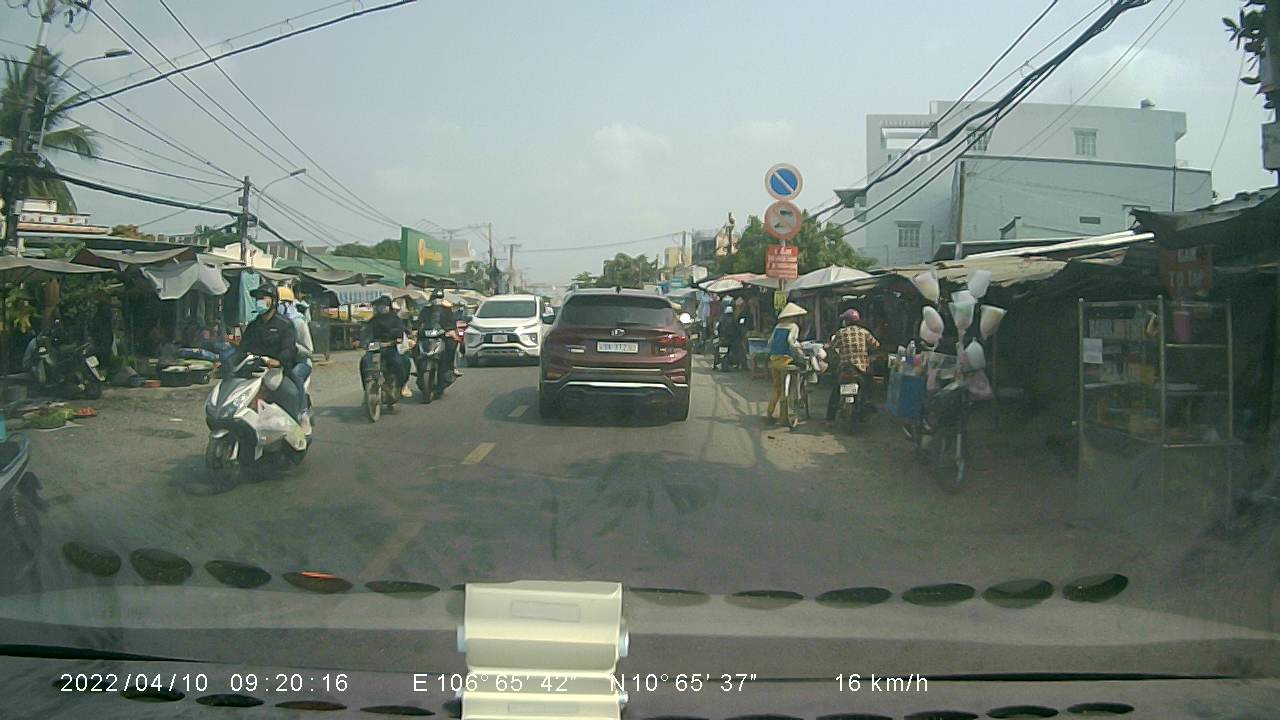Bien khac: (762, 201, 802, 239)
Cam do xe: (763, 160, 803, 201)
